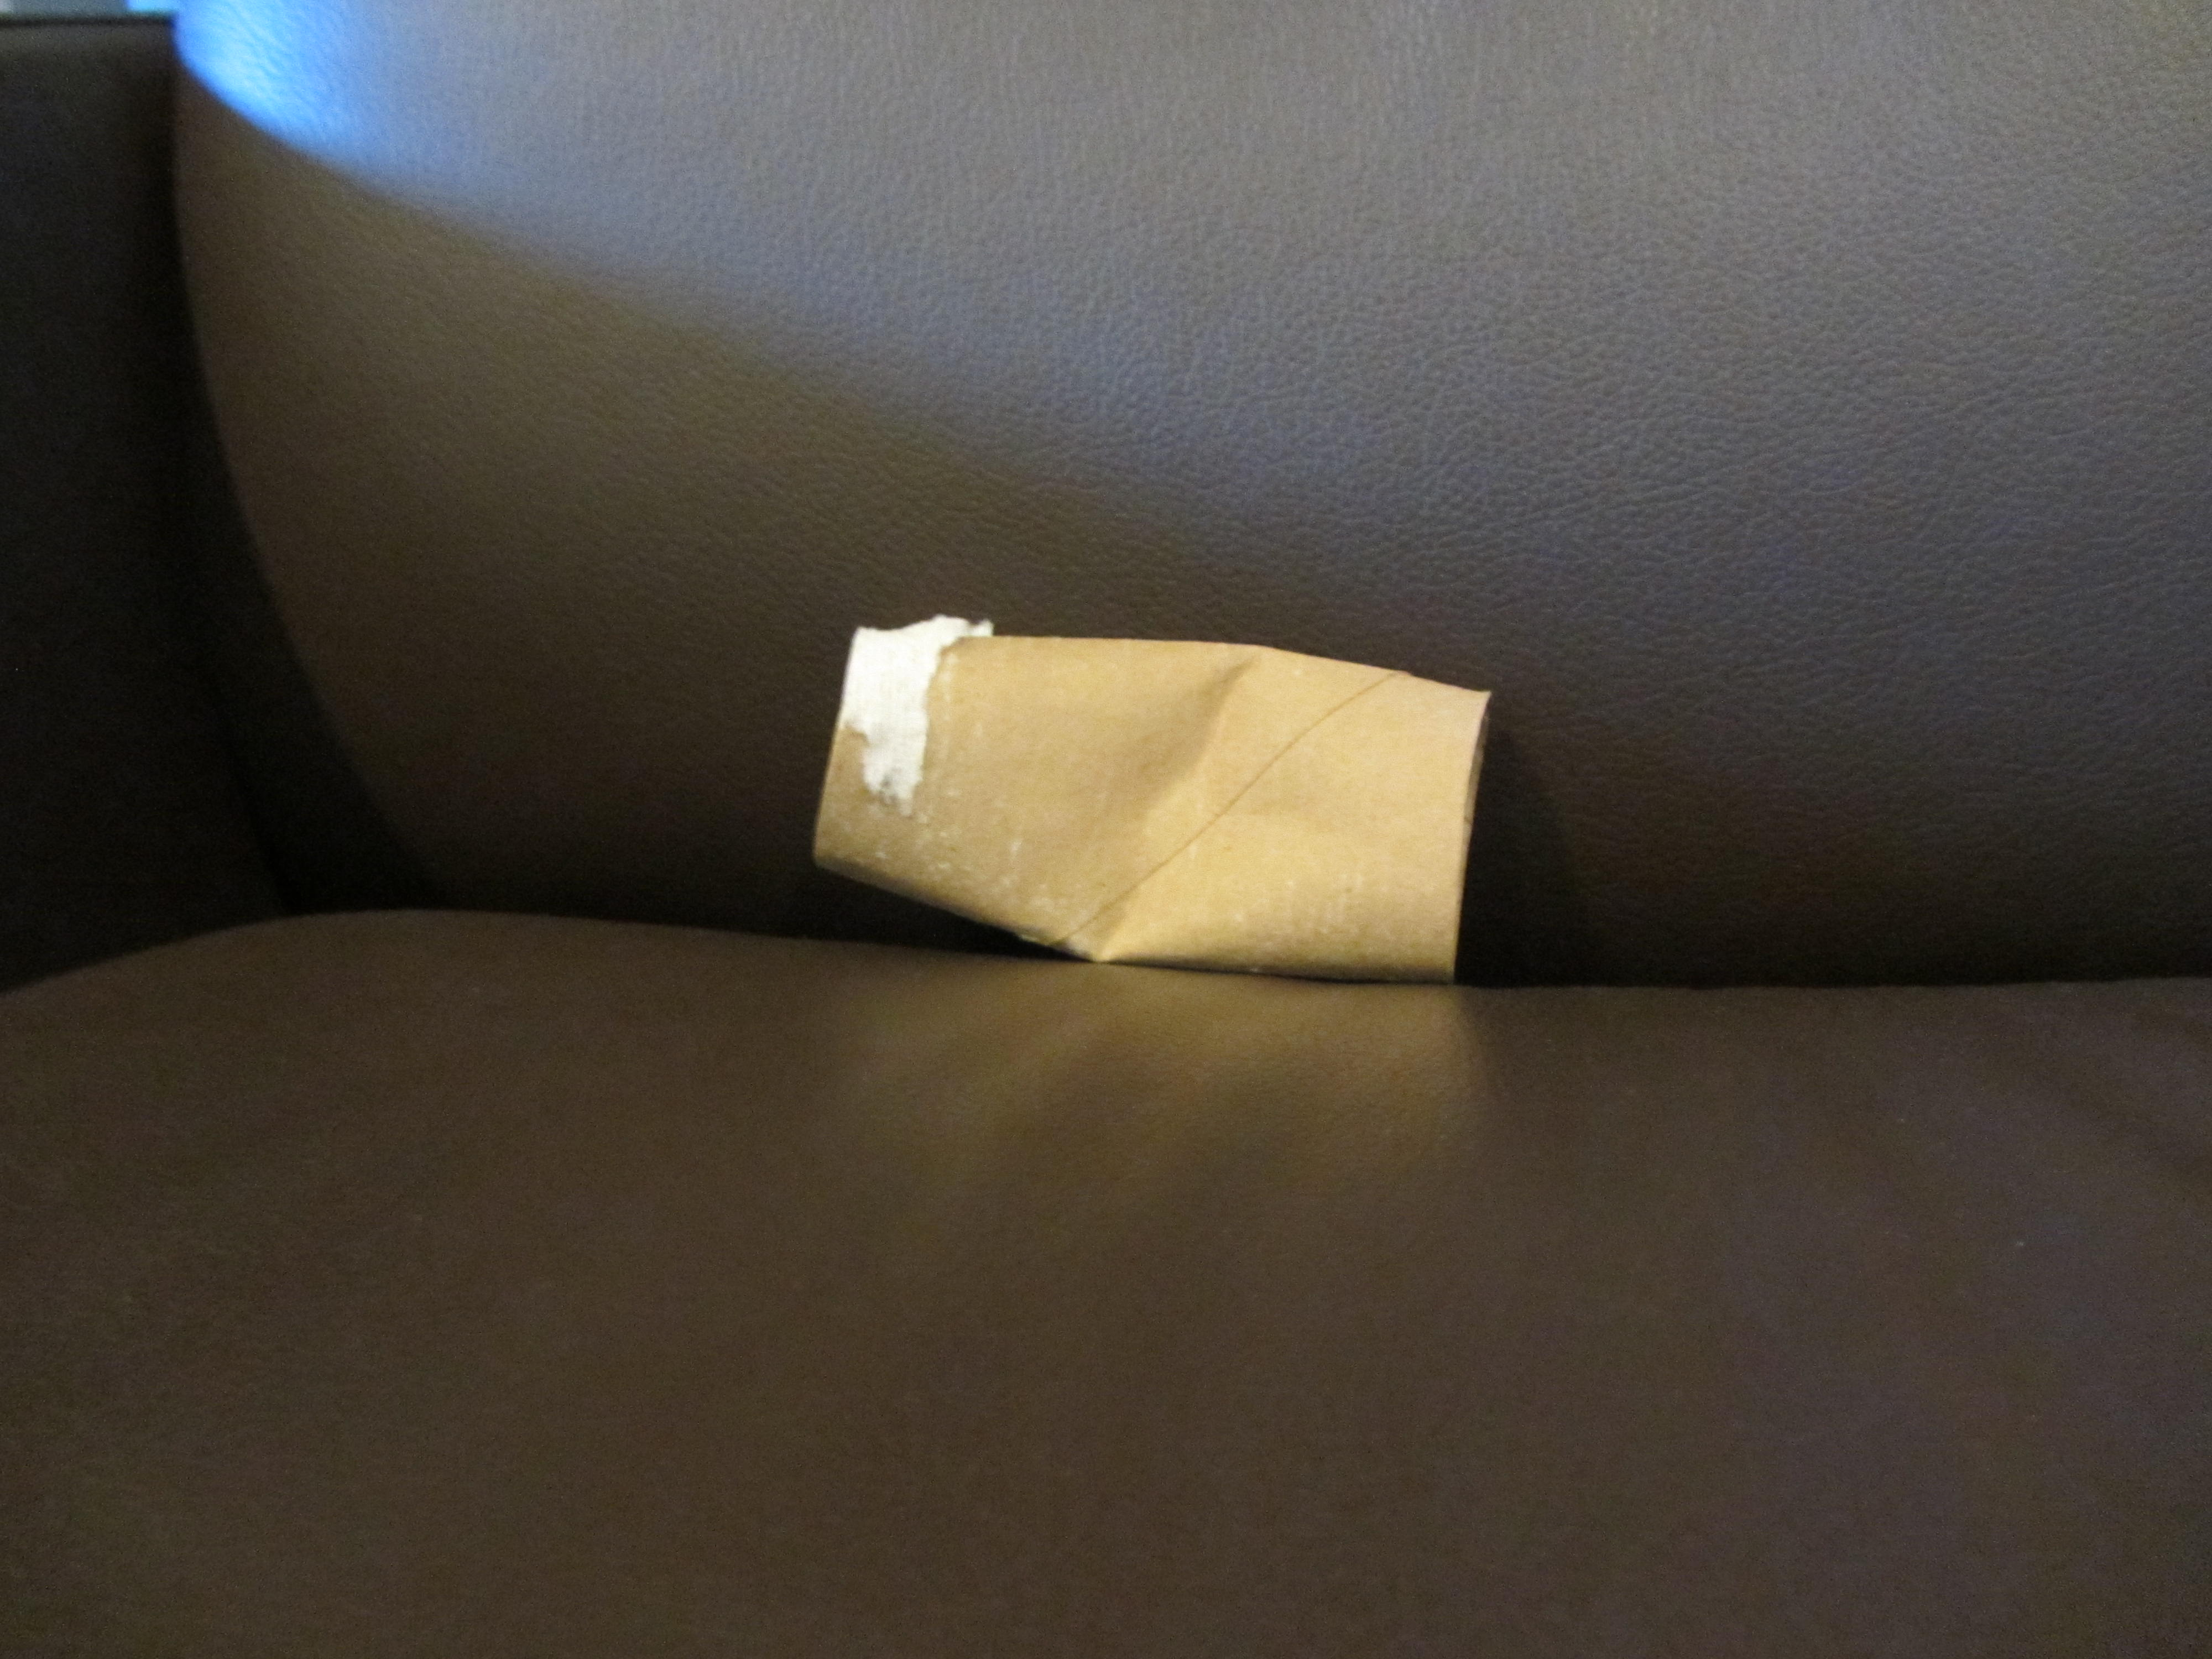tp_roll: (812, 587, 1498, 997)
